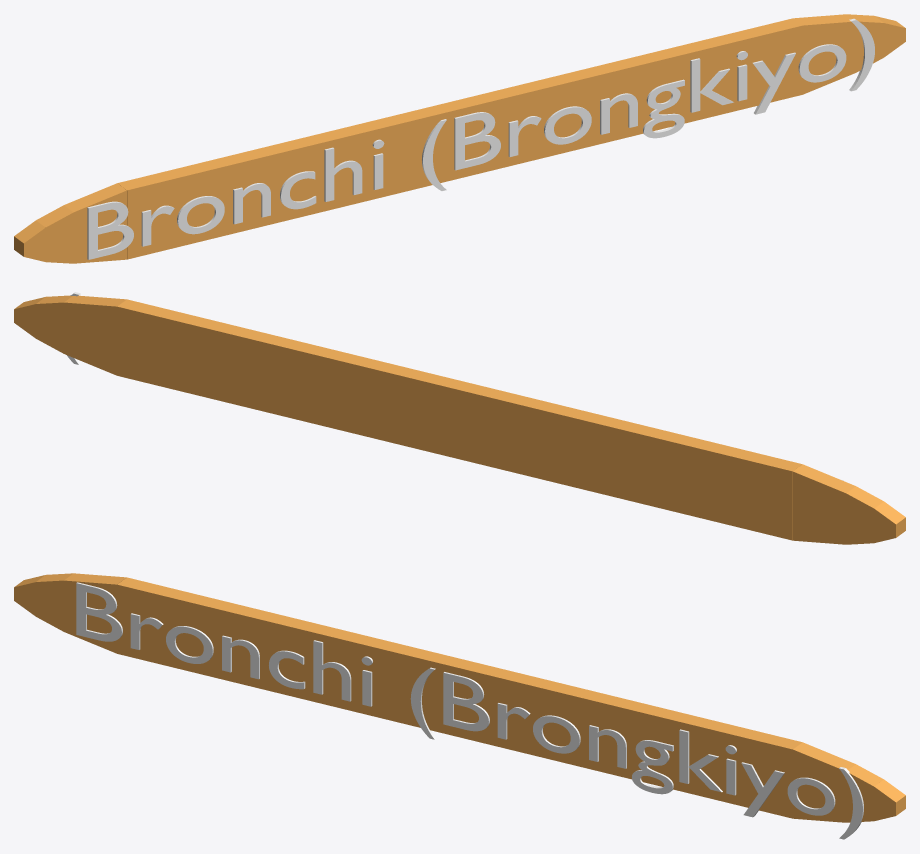
The model's file is txtBronchi.fbx.
The picture shows the model from 3 angles, top to bottom: view 1: azimuth 30°, elevation 25°; view 2: azimuth 150°, elevation 25°; view 3: azimuth 330°, elevation 25°; orthographic projection.
Visible parts, largest first — view 1: TagContainer.083, Text.084; view 2: TagContainer.083; view 3: TagContainer.083, Text.084.
Part boxes in pixels (x1=…): TagContainer.083: x1=14, y1=14, x2=905, y2=263; Text.084: x1=87, y1=18, x2=874, y2=259; TagContainer.083: x1=14, y1=295, x2=905, y2=544; TagContainer.083: x1=14, y1=573, x2=905, y2=822; Text.084: x1=76, y1=582, x2=863, y2=839.
Size of the model in its own units: 551 by 45.66 by 11.92.
